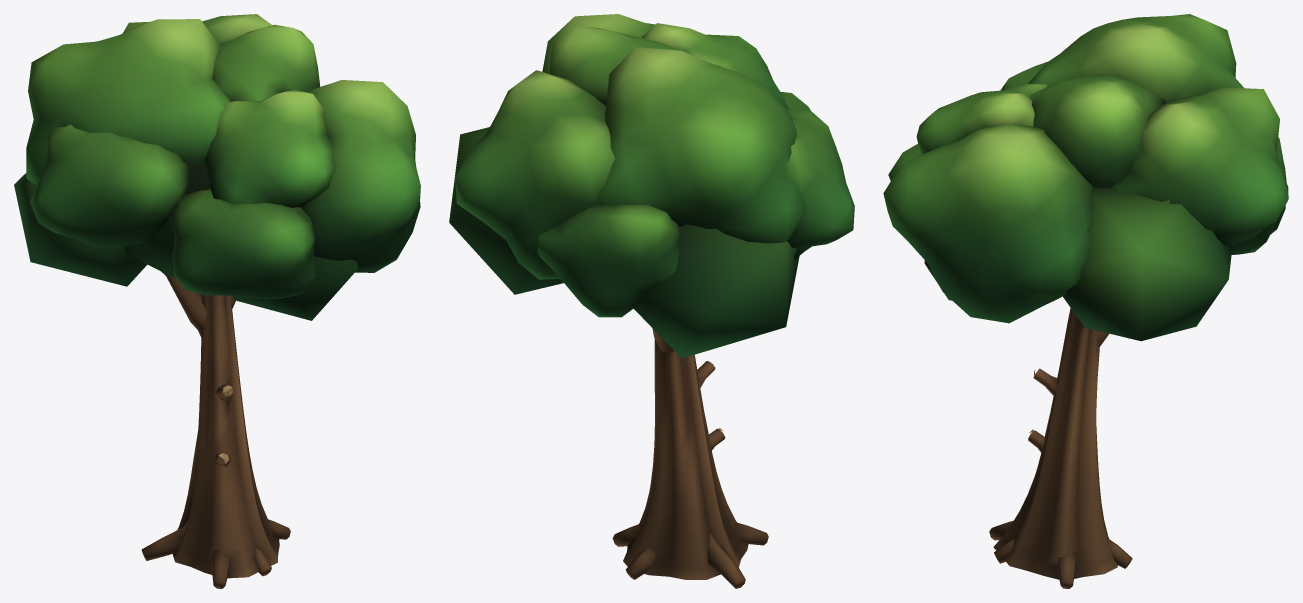
File: tree-standing-a-v3.glb
3 views of the same model, side by side, from view 1: azimuth 30°, elevation 25°; view 2: azimuth 150°, elevation 25°; view 3: azimuth 270°, elevation 25° (orthographic). The views are drawn at different scales.
Visible parts, largest first — view 1: 1_leaves, 0_trunk; view 2: 1_leaves, 0_trunk; view 3: 1_leaves, 0_trunk.
Boxes of the visible parts, x1,y1,x2,y2 form: 1_leaves: (14, 14, 420, 320); 0_trunk: (141, 271, 290, 588); 1_leaves: (449, 14, 854, 358); 0_trunk: (612, 328, 768, 588); 1_leaves: (883, 14, 1288, 341); 0_trunk: (989, 308, 1132, 588).
Size of the model in its own units: 4.46 by 6.22 by 4.41.
